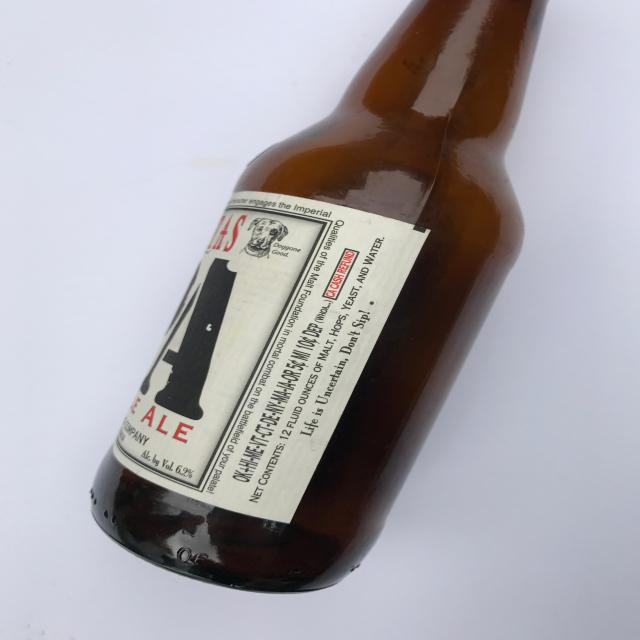glass: (88, 0, 557, 594)
